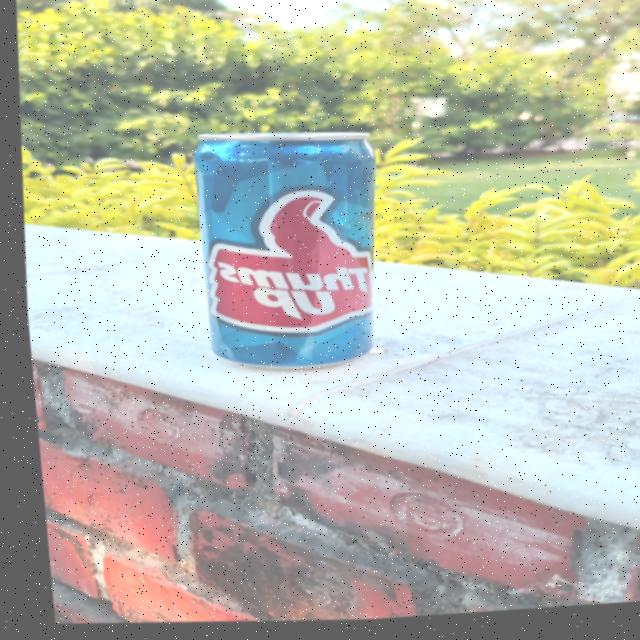Thums Up: (180, 124, 395, 379)
